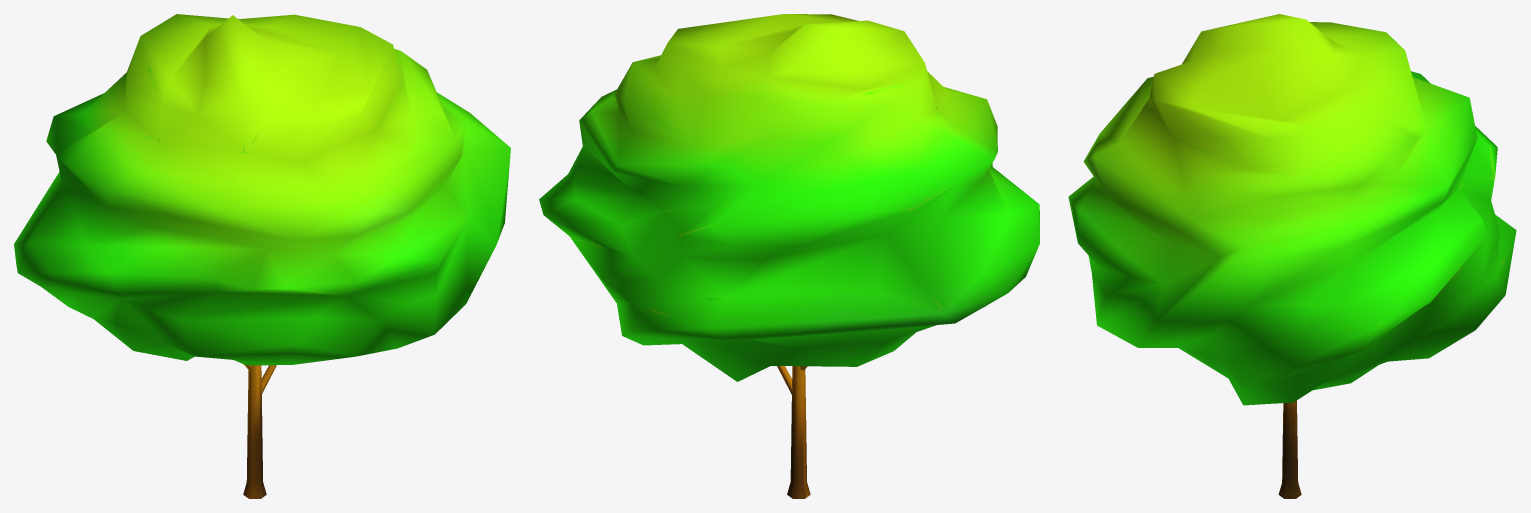
The model's file is TreeStyle3Blue_03.fbx.
The picture shows the model from 3 angles, left to right: view 1: azimuth 30°, elevation 25°; view 2: azimuth 150°, elevation 25°; view 3: azimuth 270°, elevation 25°; orthographic projection. The views are drawn at different scales.
Visible parts, largest first — view 1: TreeStyle3_03; view 2: TreeStyle3_03; view 3: TreeStyle3_03.
Part boxes in pixels (x1=…): TreeStyle3_03: x1=14, y1=14, x2=510, y2=498; TreeStyle3_03: x1=539, y1=14, x2=1039, y2=498; TreeStyle3_03: x1=1068, y1=14, x2=1516, y2=498.
Size of the model in its own units: 1096 by 1140 by 988.
